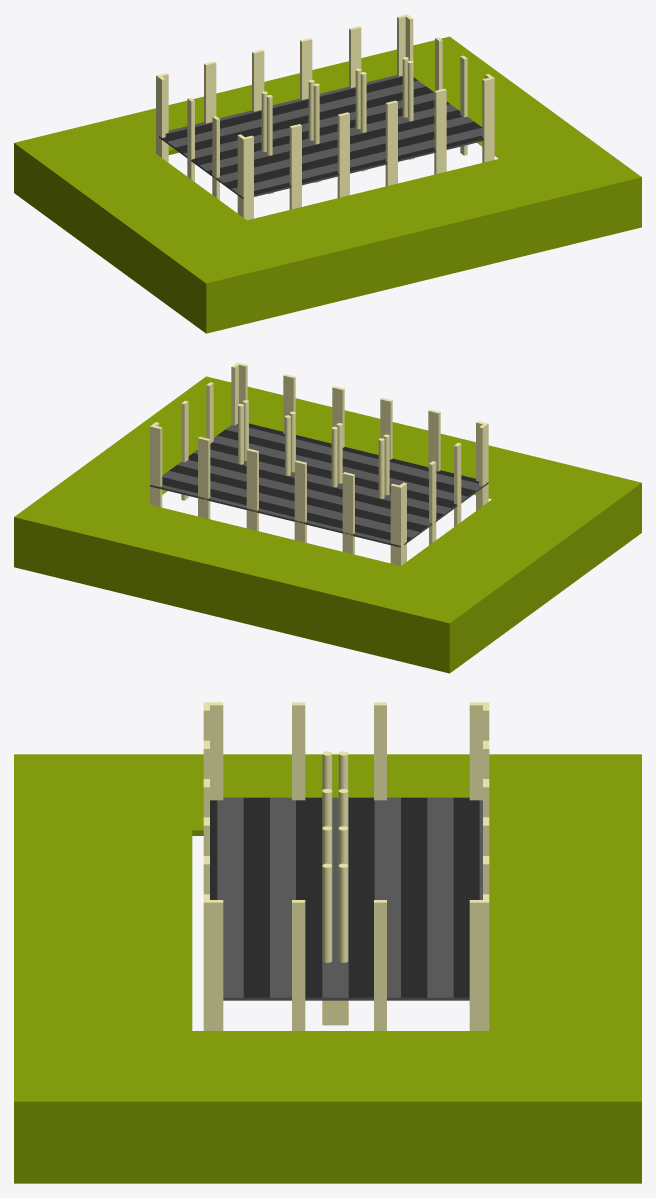
Rendered from Masjid.glb.
3 views of the same model, one above another, from view 1: azimuth 30°, elevation 25°; view 2: azimuth 150°, elevation 25°; view 3: azimuth 270°, elevation 25° (orthographic). The views are drawn at different scales.
Visible parts, largest first — view 1: Ground, floor, BS, BC, Mainpillar; view 2: Ground, floor, BS, BC, Mainpillar; view 3: Ground, floor, BC, BS, Mainpillar, GMP.
Boxes of the visible parts, left/top/right/bottom form: Ground: left=14, top=36, right=641, bottom=333; floor: left=159, top=75, right=484, bottom=199; BS: left=187, top=26, right=467, bottom=209; BC: left=156, top=14, right=494, bottom=220; Mainpillar: left=261, top=57, right=413, bottom=155; Ground: left=14, top=376, right=641, bottom=673; floor: left=150, top=423, right=488, bottom=547; BS: left=181, top=374, right=461, bottom=554; BC: left=150, top=362, right=488, bottom=565; Mainpillar: left=238, top=400, right=389, bottom=498; Ground: left=14, top=754, right=641, bottom=1183; floor: left=210, top=797, right=482, bottom=1000; BC: left=203, top=702, right=489, bottom=1030; BS: left=203, top=702, right=489, bottom=1030; Mainpillar: left=322, top=751, right=348, bottom=962; GMP: left=322, top=1000, right=348, bottom=1025.
Size of the model in its own units: 38.2 by 10.75 by 29.19.
